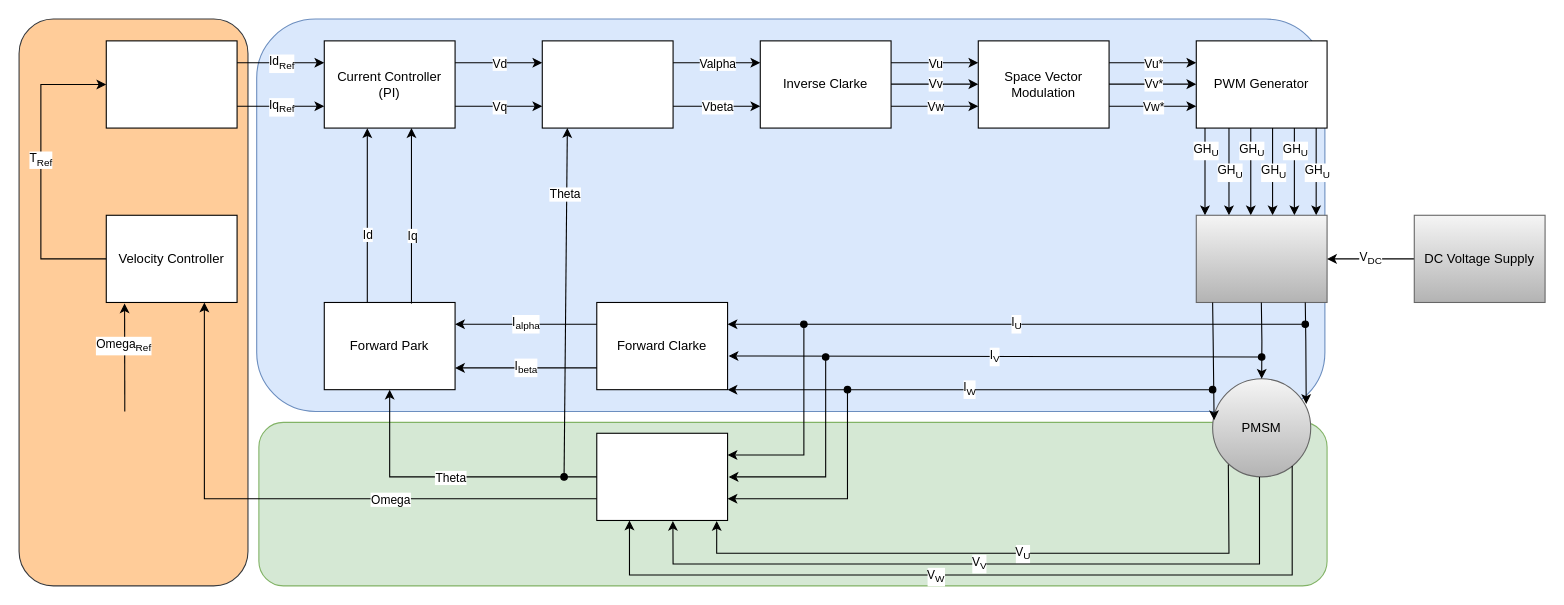
Some shapes in this 1564 by 605 pixel diagram are drawn without their labels. Each missing label, with the centre of its shape:
"Current Reference Generator" belongs at [171,84].
"Inverse Park" belongs at [607,84].
"Observer" belongs at [662,476].
"Power Inverter" belongs at [1261,258].
